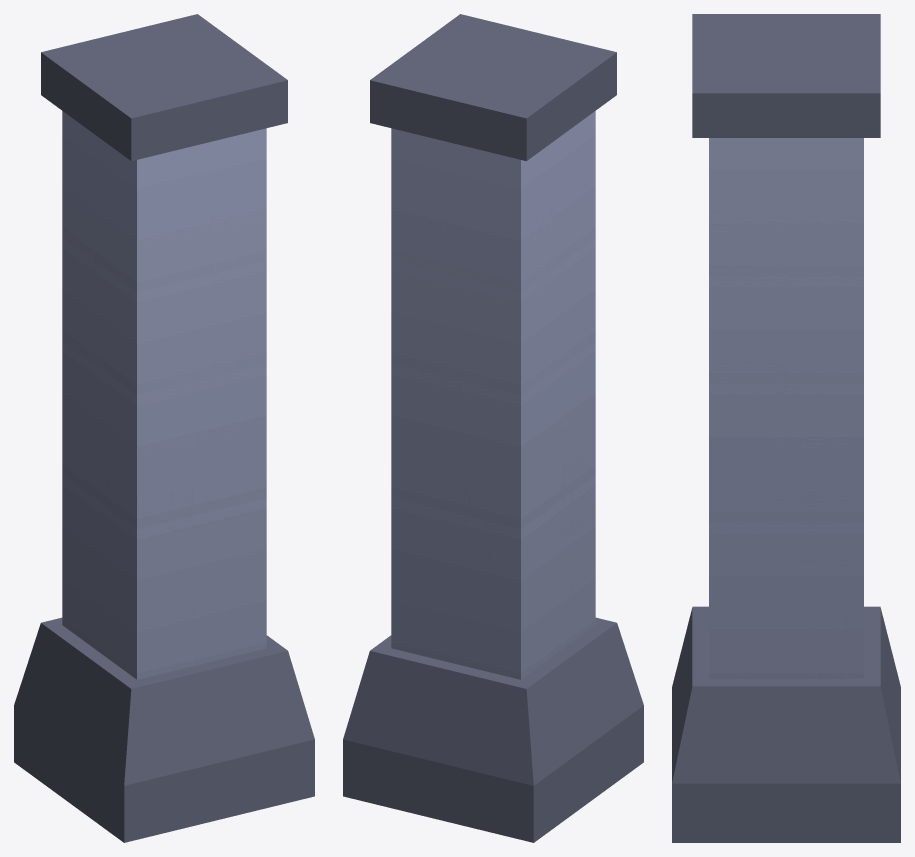
The model's file is bridge-pillar-wide.glb.
3 renders of one model, left to right at view 1: azimuth 30°, elevation 25°; view 2: azimuth 150°, elevation 25°; view 3: azimuth 270°, elevation 25°, orthographic. The views are drawn at different scales.
Parts seen in each view (by area): view 1: bridge-pillar-wide; view 2: bridge-pillar-wide; view 3: bridge-pillar-wide.
Part boxes in pixels (bbox=[...]): bridge-pillar-wide: bbox=[14, 14, 314, 842]; bridge-pillar-wide: bbox=[343, 14, 643, 842]; bridge-pillar-wide: bbox=[672, 14, 900, 842].
Size of the model in its own units: 0.14 by 0.5 by 0.14.
